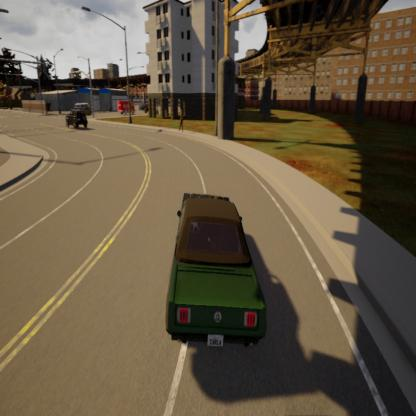Cars: (167, 194, 267, 347), (66, 109, 88, 130), (73, 101, 91, 116), (118, 98, 134, 114), (140, 100, 148, 113)
Pedestrian: (178, 107, 184, 133)
